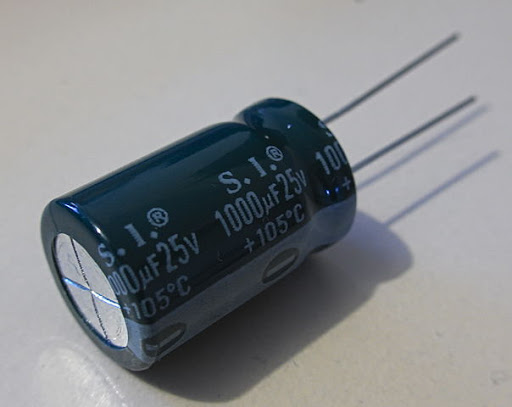capacitor: (30, 58, 375, 386)
